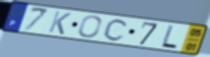7: (23, 6, 51, 33), (137, 21, 160, 46)
C: (102, 18, 130, 43)
K: (47, 10, 73, 36)
L: (159, 24, 179, 50)
O: (77, 15, 103, 39)
